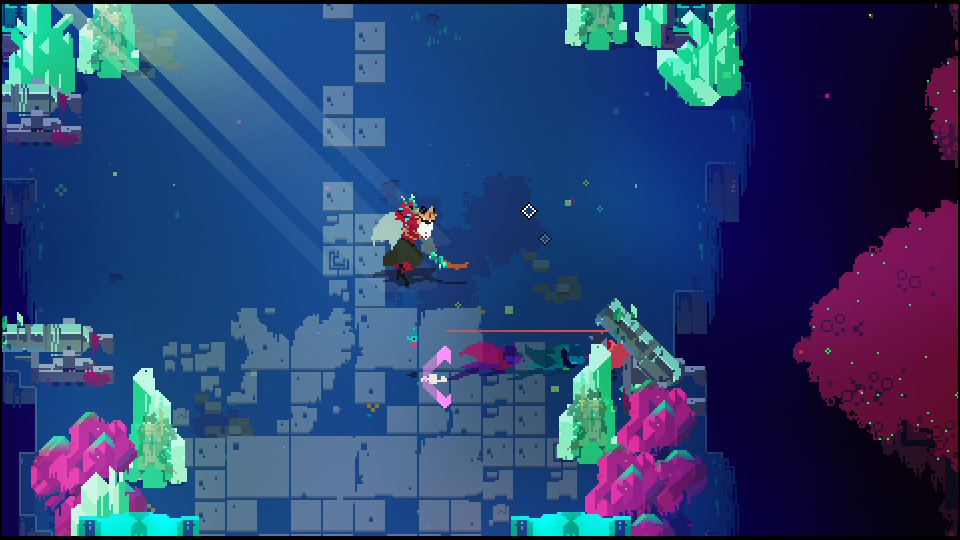hanged_man: (370, 202, 451, 279)
player: (595, 330, 632, 368)
